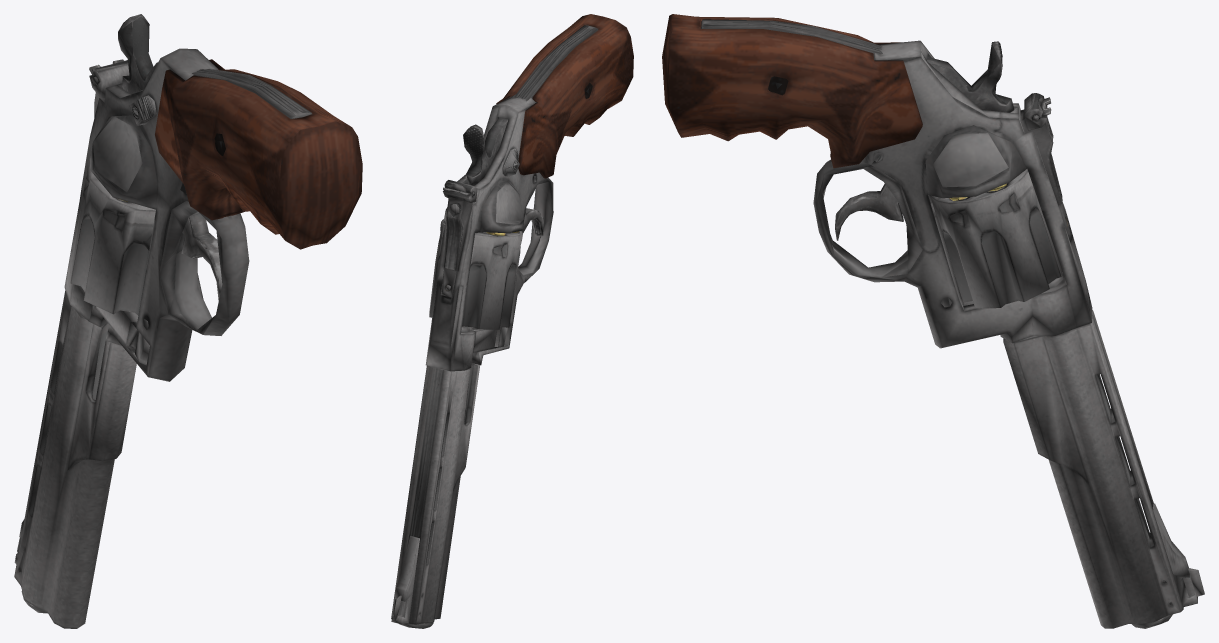
Rendered from Revolver_LongMelee.fbx.
3 renders of one model, left to right at view 1: azimuth 30°, elevation 25°; view 2: azimuth 150°, elevation 25°; view 3: azimuth 270°, elevation 25°, orthographic. The views are drawn at different scales.
Visible parts, largest first — view 1: Revolver_Long; view 2: Revolver_Long; view 3: Revolver_Long.
Part boxes in pixels (bbox=[...]): Revolver_Long: bbox=[14, 14, 362, 628]; Revolver_Long: bbox=[391, 14, 633, 628]; Revolver_Long: bbox=[662, 14, 1204, 628].
Bounding box in the file's own units: 0.0314 × 0.1998 × 0.1628.
